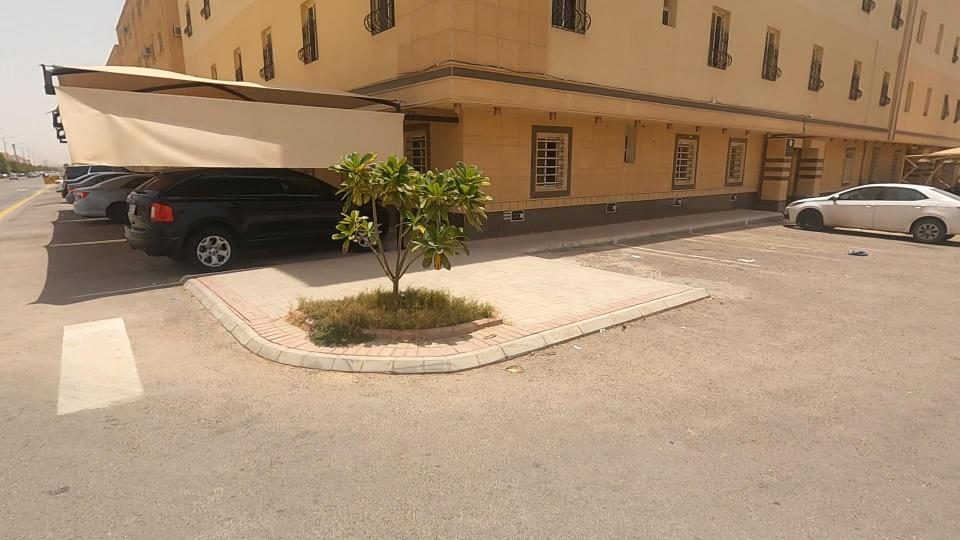GARBAGE: (815, 230, 898, 274)
